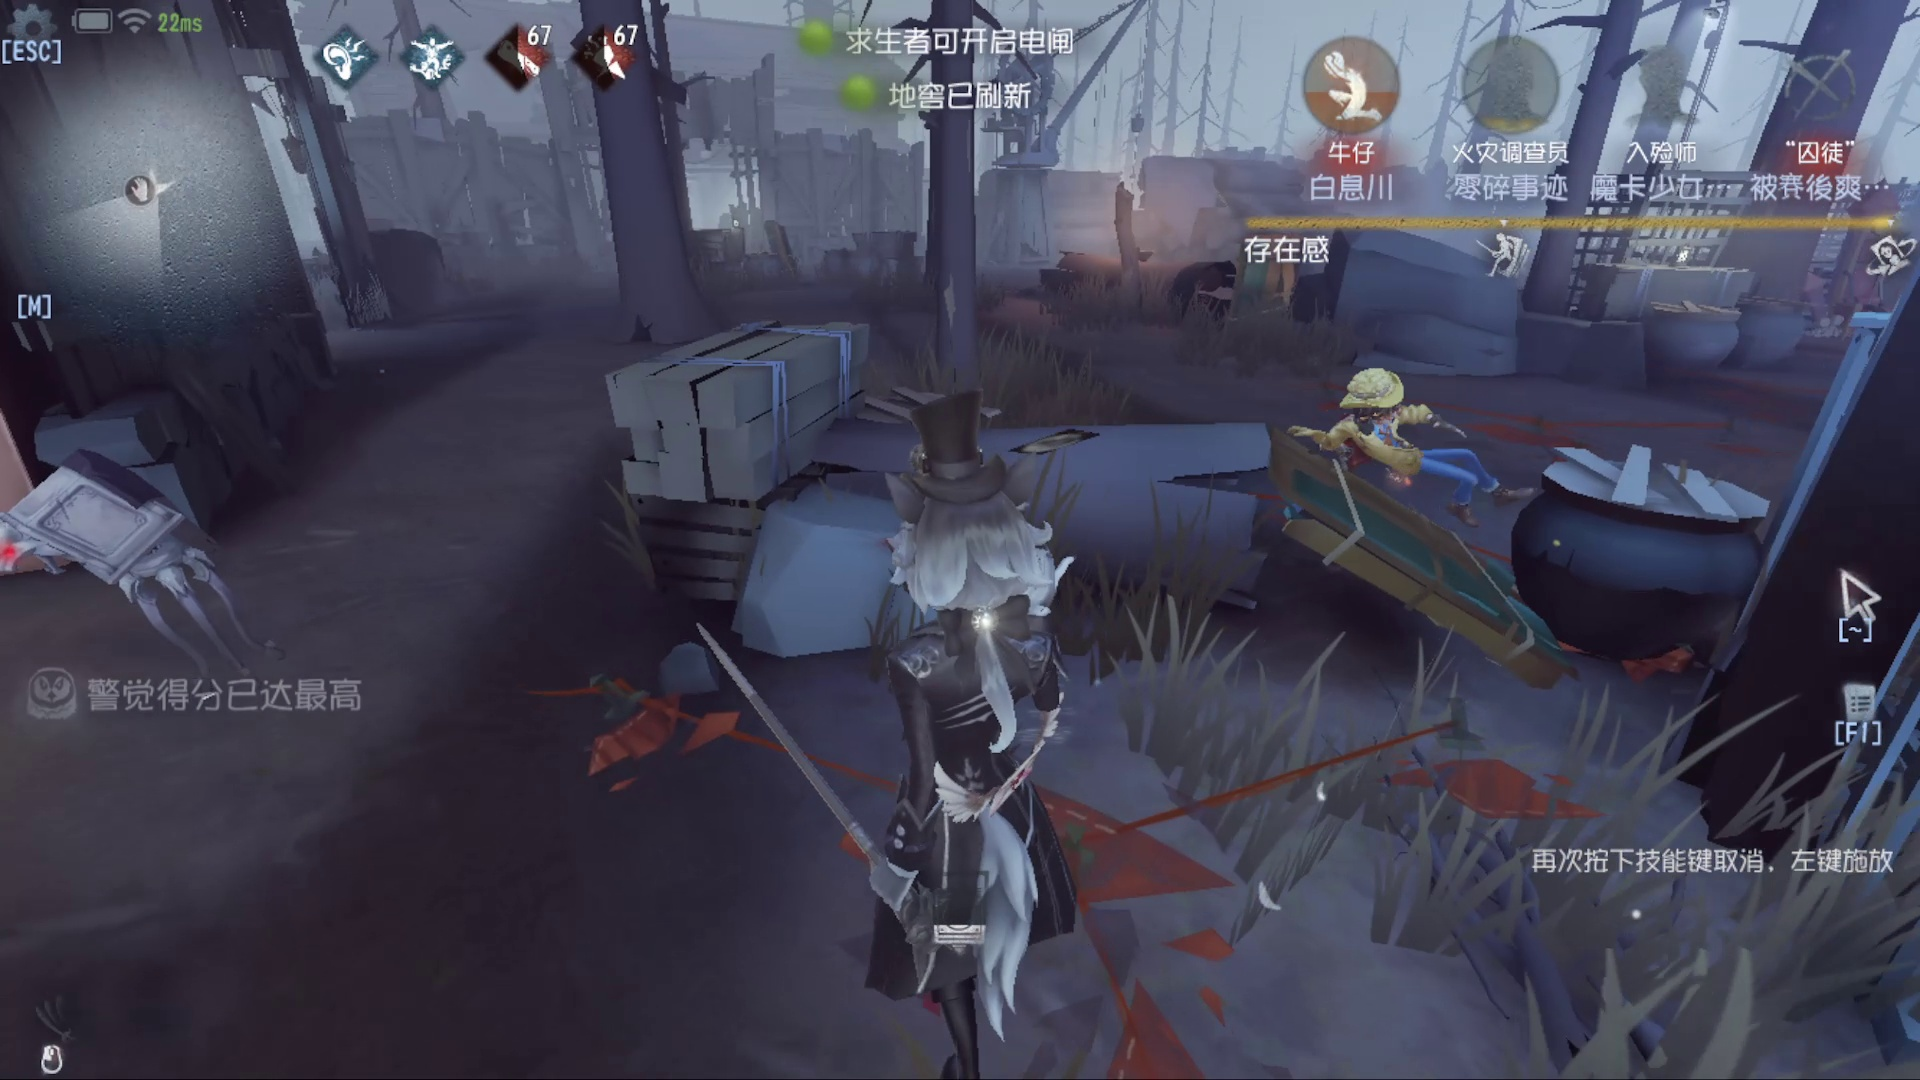木板: (1232, 433, 1538, 658), (1211, 225, 1342, 349), (753, 211, 812, 284)
求生者: (1287, 349, 1501, 526)
